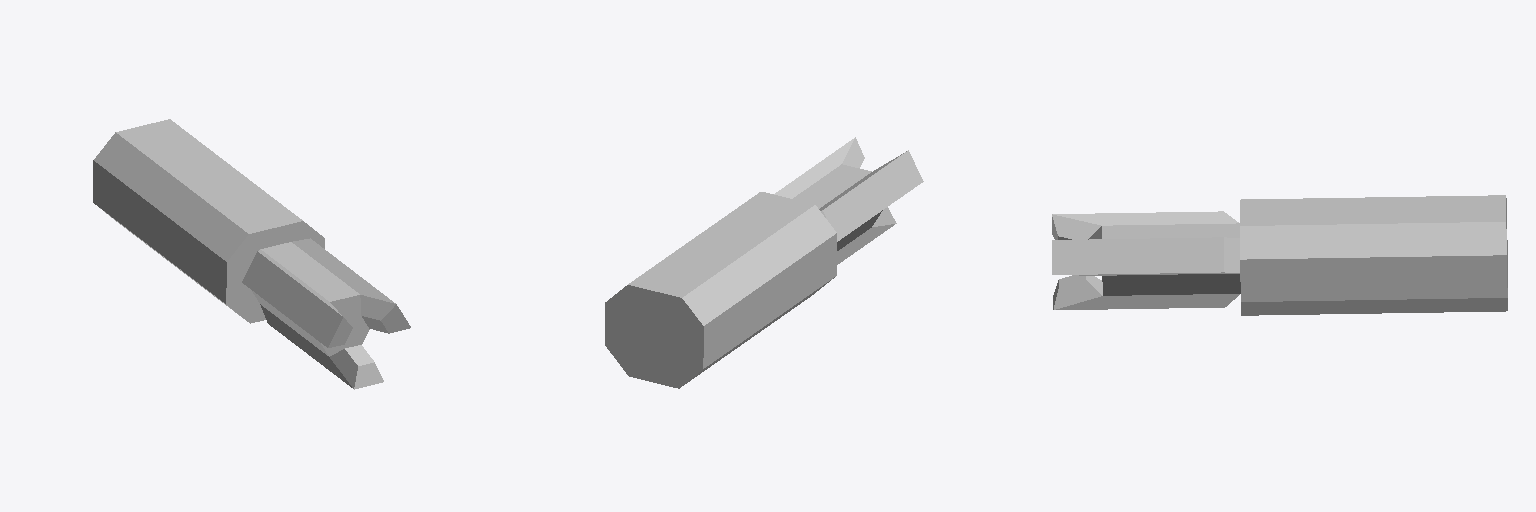
Rendered from UprightGun.obj.
The picture shows the model from 3 angles: view 1: azimuth 30°, elevation 25°; view 2: azimuth 150°, elevation 25°; view 3: azimuth 270°, elevation 25°; orthographic projection.
Visible parts, largest first — view 1: RearGun; view 2: RearGun; view 3: RearGun.
Boxes of the visible parts, x1,y1,x2,y2 form: RearGun: [93, 119, 410, 389]; RearGun: [605, 137, 923, 388]; RearGun: [1052, 195, 1507, 315].
Bounding box in the file's own units: 5.89 × 5.42 × 23.61.